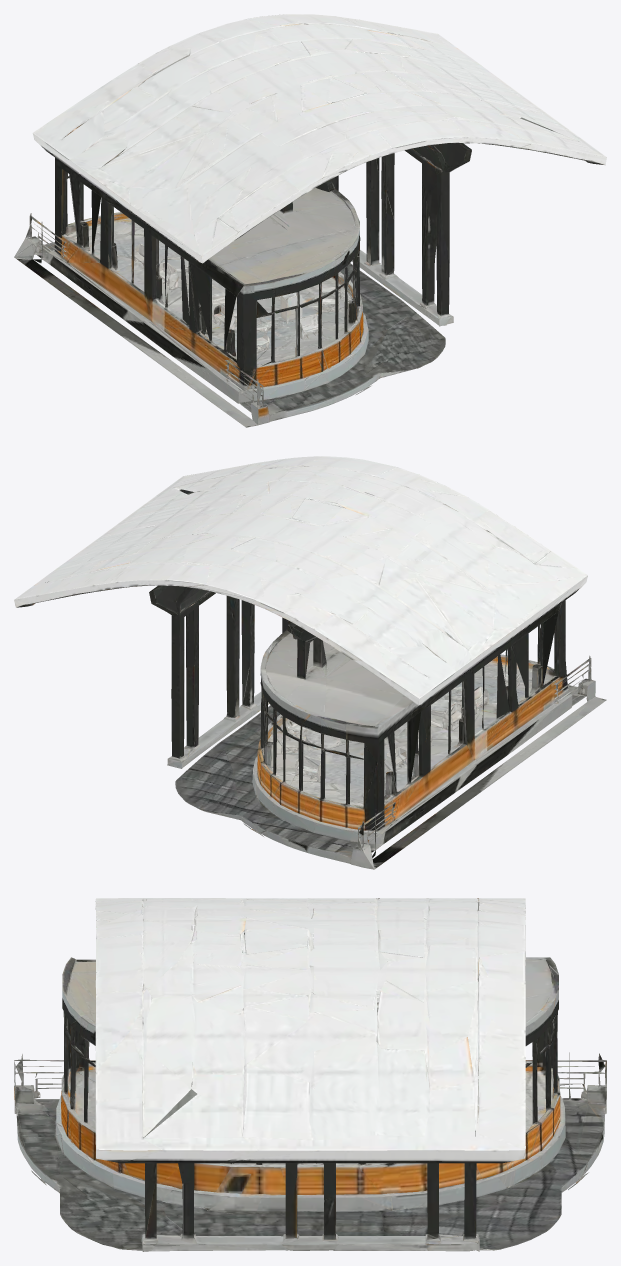
Rendered from gondola_station_top.glb.
3 renders of one model, top to bottom at view 1: azimuth 30°, elevation 25°; view 2: azimuth 150°, elevation 25°; view 3: azimuth 270°, elevation 25°, orthographic. The views are drawn at different scales.
Bounding box in the file's own units: 1.9 × 0.9767 × 1.89.
Materials: 1 (1 with a texture image).
